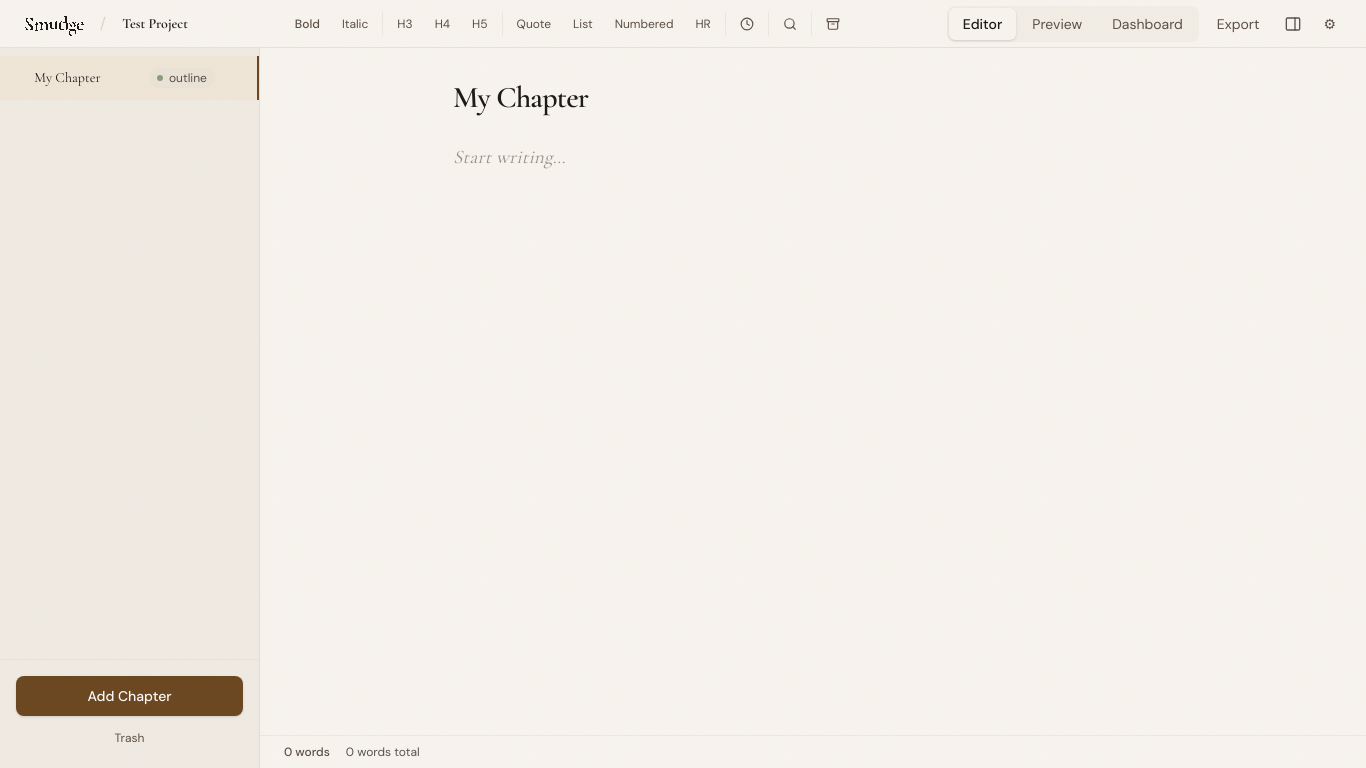
Test case: Chapter title editing › enters edit mode on double-click
This screenshot has width=1366, height=768.
Double-click the heading "My Chapter" at (521, 98), box [453, 79, 588, 116]
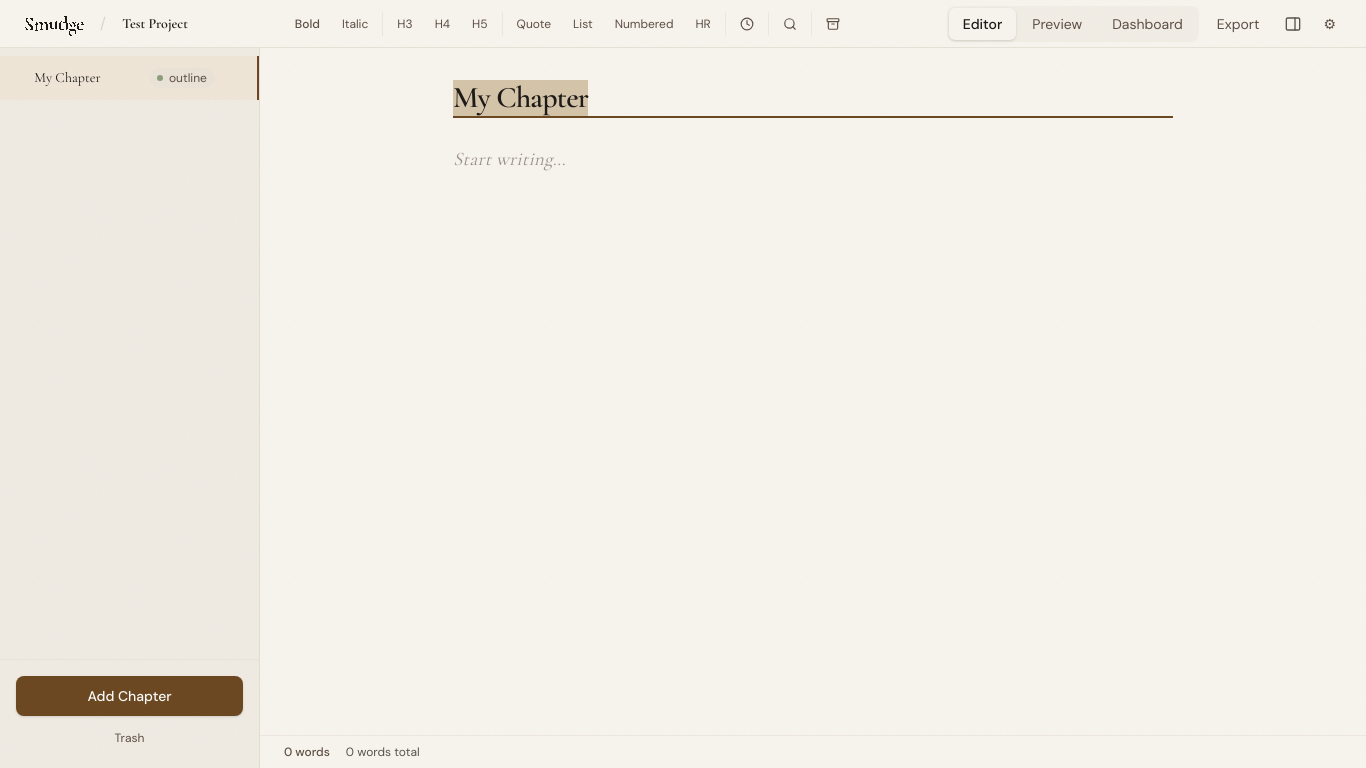
Check: the field named "Chapter title" holds "My Chapter", box [453, 80, 1173, 118]
